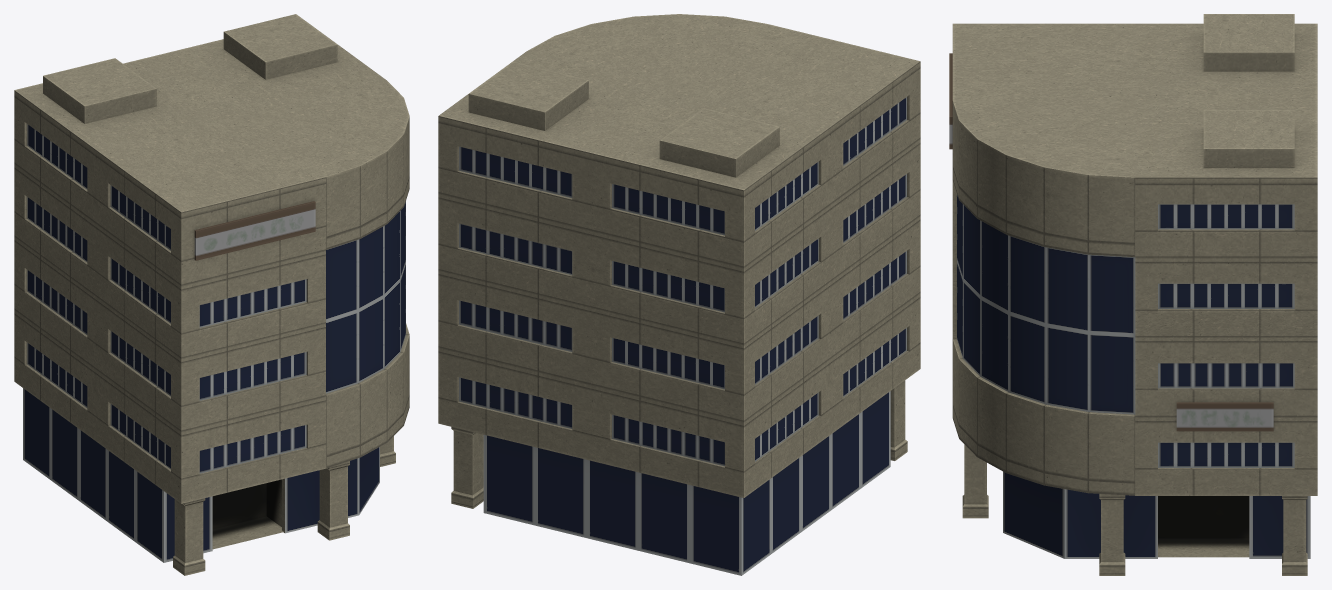
File: sb_obj_ModernCity008_buil_d1.fbx
3 renders of one model, left to right at view 1: azimuth 30°, elevation 25°; view 2: azimuth 150°, elevation 25°; view 3: azimuth 270°, elevation 25°, orthographic. The views are drawn at different scales.
Parts seen in each view (by area): view 1: sb_obj_ModernCity008_buil_d1; view 2: sb_obj_ModernCity008_buil_d1; view 3: sb_obj_ModernCity008_buil_d1.
Part boxes in pixels (left/top/right/bottom): sb_obj_ModernCity008_buil_d1: left=14, top=14, right=409, bottom=575; sb_obj_ModernCity008_buil_d1: left=438, top=14, right=920, bottom=575; sb_obj_ModernCity008_buil_d1: left=949, top=14, right=1317, bottom=575.
Size of the model in its own units: 7.89 by 10 by 7.91.
